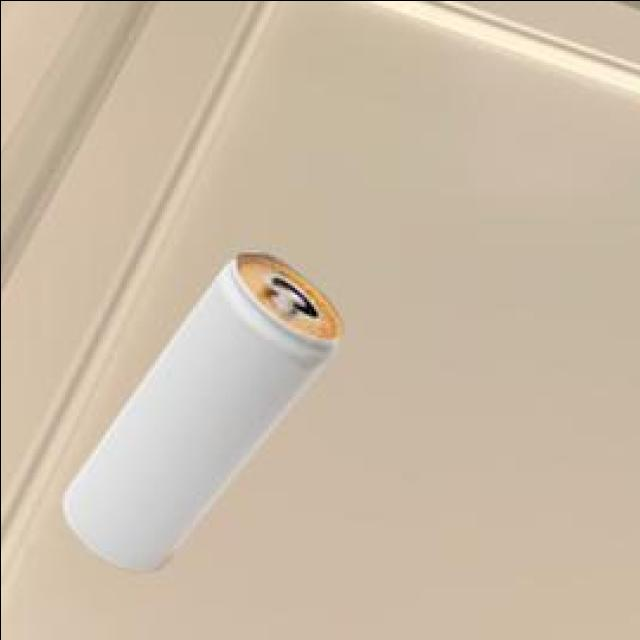logam: (68, 255, 345, 575)
